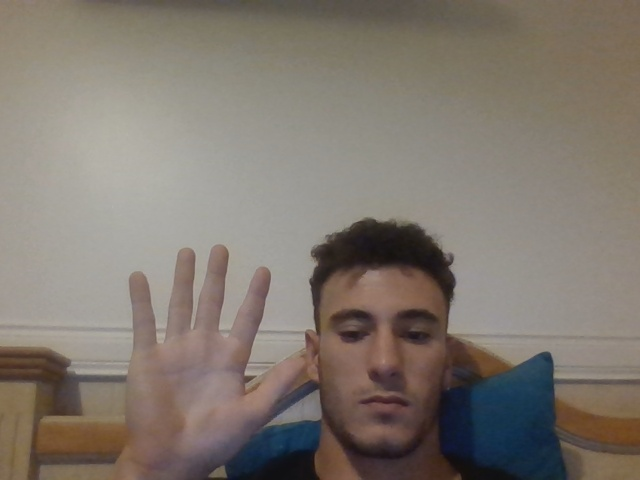Play: (125, 244, 306, 465)
